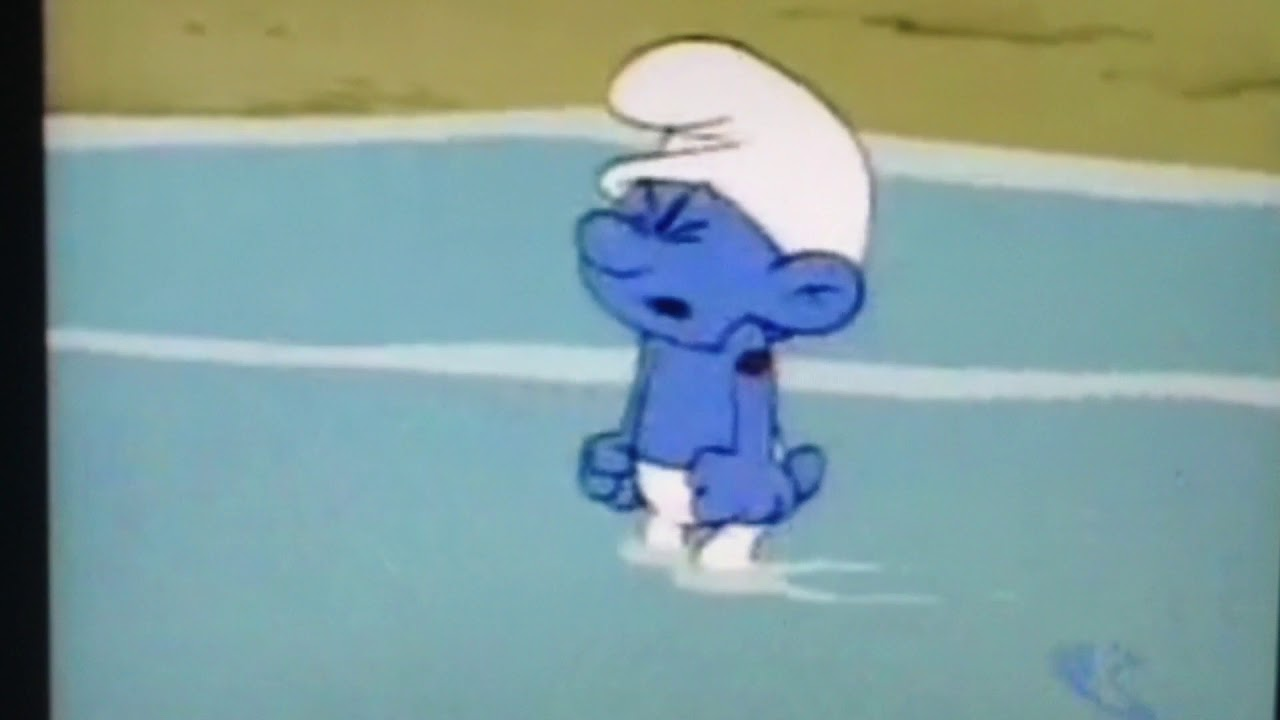smurf: (575, 33, 873, 562)
